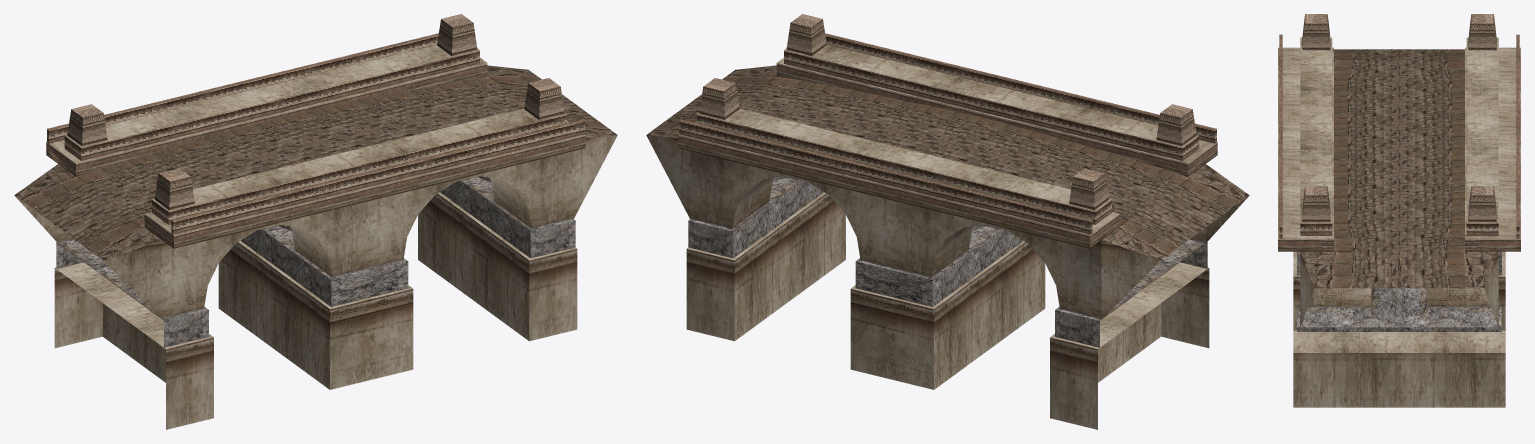
File: brdgston.glb
3 views of the same model, side by side, from view 1: azimuth 30°, elevation 25°; view 2: azimuth 150°, elevation 25°; view 3: azimuth 270°, elevation 25° (orthographic). The views are drawn at different scales.
Parts seen in each view (by area): view 1: _brdgston; view 2: _brdgston; view 3: _brdgston.
Part boxes in pixels (x1,y1,x2,y2): _brdgston: (14,14,617,429); _brdgston: (646,14,1249,429); _brdgston: (1278,14,1520,407).
Bounding box in the file's own units: 40 × 17.91 × 17.18.
2 materials, 2 textured.
